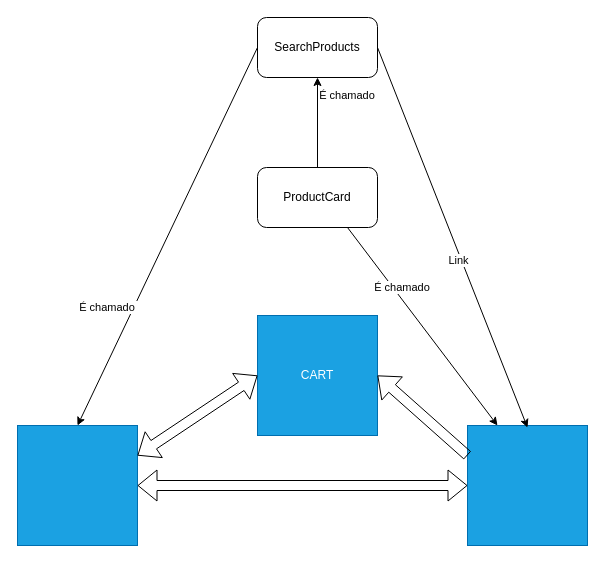
Image size: 605x563. Some labels were removed from this diagram. Here are the shapes that lost their labels. From the top down, the centre of each, then its label:
the point at 77,485: HOME
the point at 527,485: PRODUCTDETAILS
